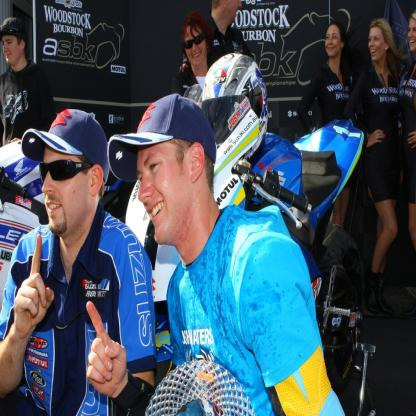Helmet: (202, 53, 269, 160)
